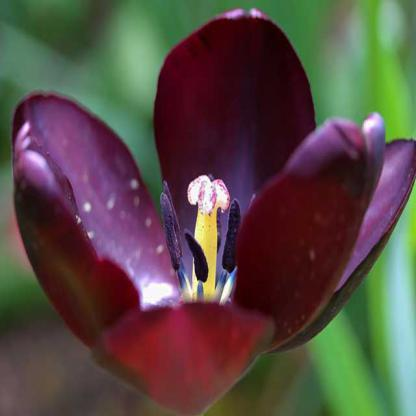ANGGREK: (13, 5, 405, 391)
